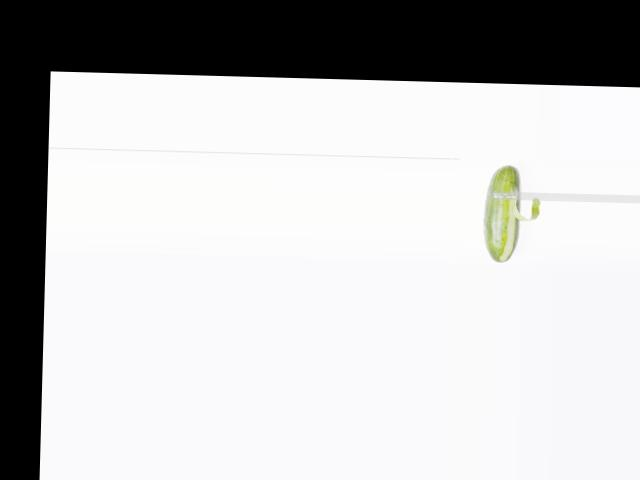cucumber: (483, 164, 522, 263)
